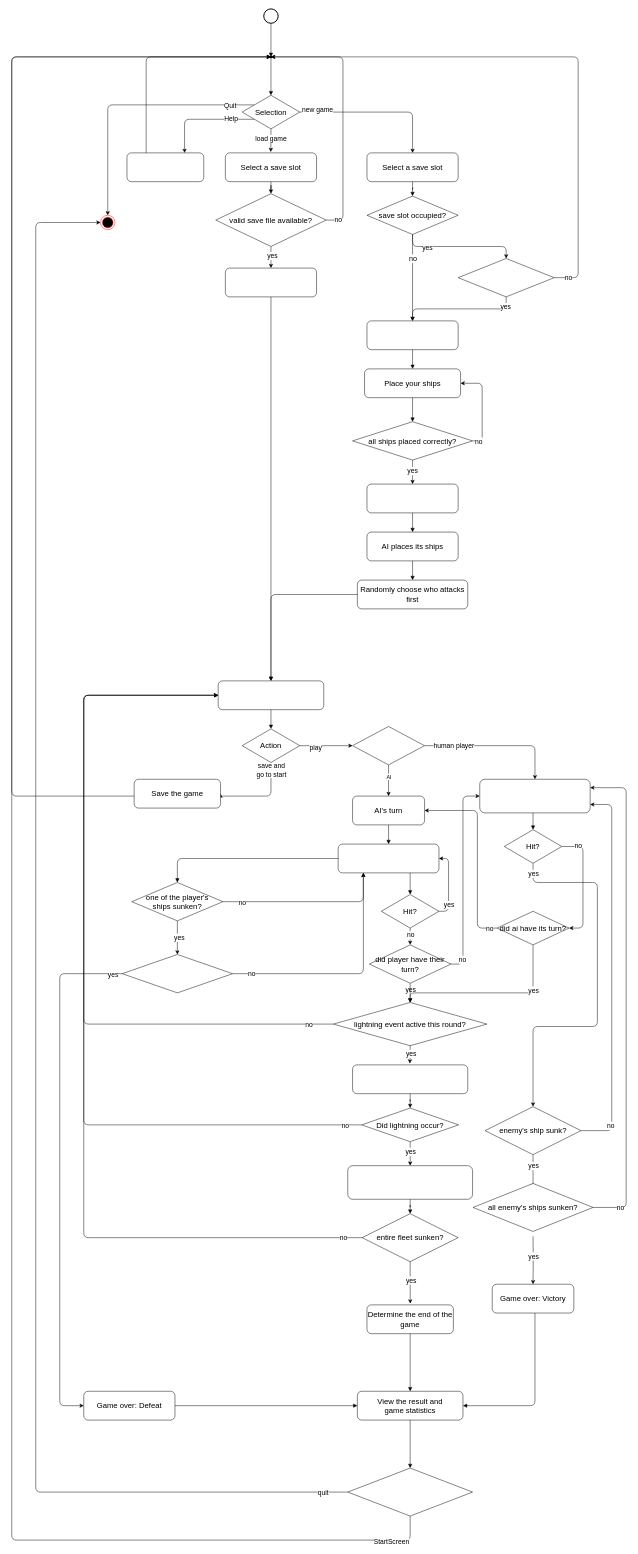
Image size: 638x1554. Some labels were removed from this diagram. Here are the shapes that lost their labels. From the top down, the centre of each, then its label:
At [165,167]: "View the rules".
At [271,282]: "Continue the game".
At [506,277]: "Confirm overwrite?".
At [412,335]: "Start a new game".
At [412,498]: "Confirm fleet placement".
At [271,695]: "View the game board and save status".
At [388,745]: "Whose turn?".
At [534,796]: "Select and attack enemy's tile".
At [388,858]: "AI attacks the player's grid".
At [177,973]: "all player's ships sunken?".
At [410,1079]: "Wait for the lightning results for both sides".
At [410,1182]: "The target tile and its directly adjacent tiles are attacked automatically".
At [410,1492]: "Return to the StartScreen or quit?".
